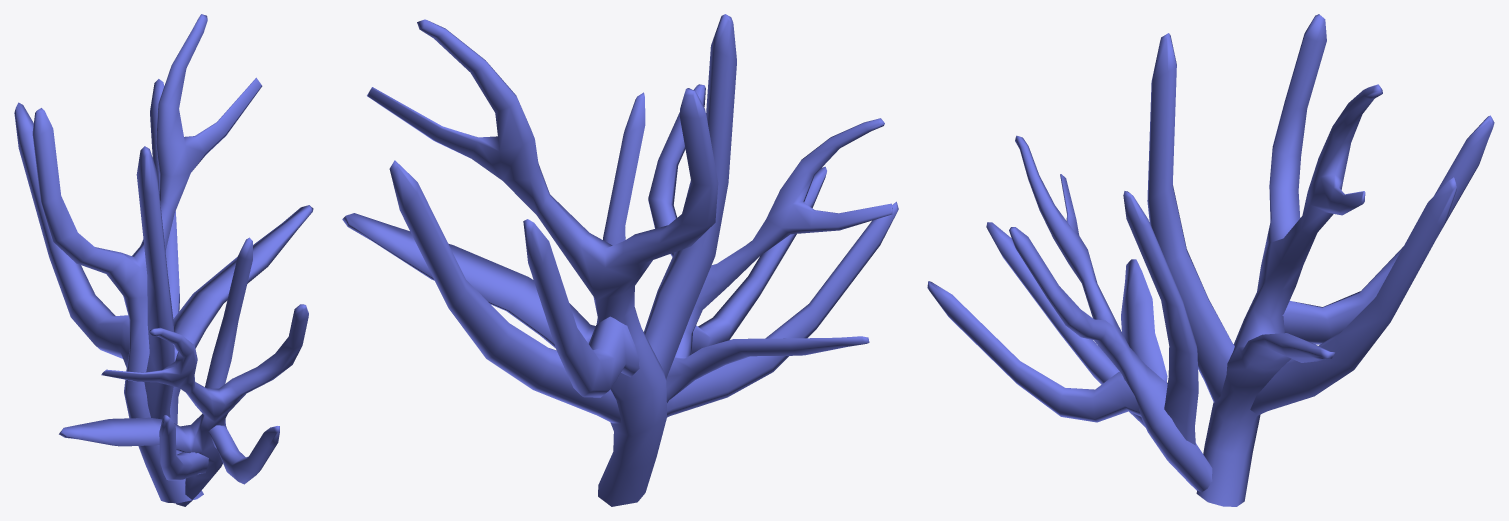
File: Coral03.fbx
3 renders of one model, left to right at view 1: azimuth 30°, elevation 25°; view 2: azimuth 150°, elevation 25°; view 3: azimuth 270°, elevation 25°, orthographic. The views are drawn at different scales.
Visible parts, largest first — view 1: Coral02.001; view 2: Coral02.001; view 3: Coral02.001.
Part boxes in pixels (left/top/right/bottom): Coral02.001: left=14, top=14, right=313, bottom=506; Coral02.001: left=342, top=14, right=898, bottom=506; Coral02.001: left=927, top=14, right=1494, bottom=506.
Bounding box in the file's own units: 98.79 × 115 × 127.
